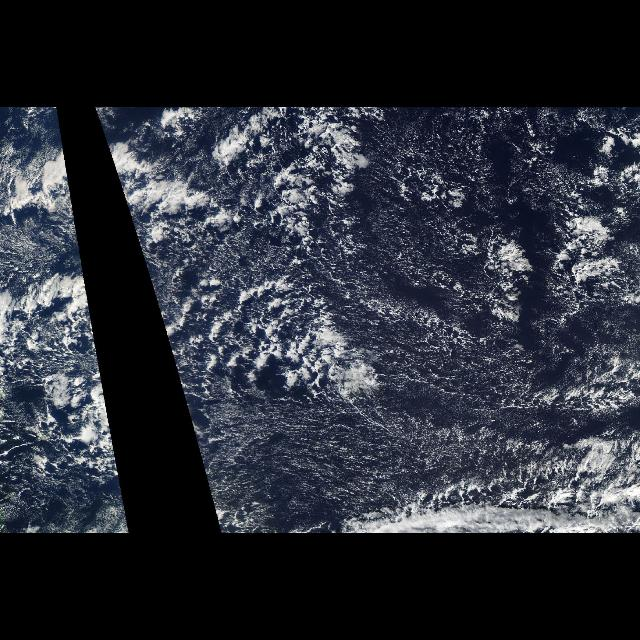Fish: (111, 157, 197, 221), (0, 157, 78, 221)
Gravel: (156, 107, 634, 413), (270, 440, 608, 524)
Sugar: (208, 400, 526, 494)
